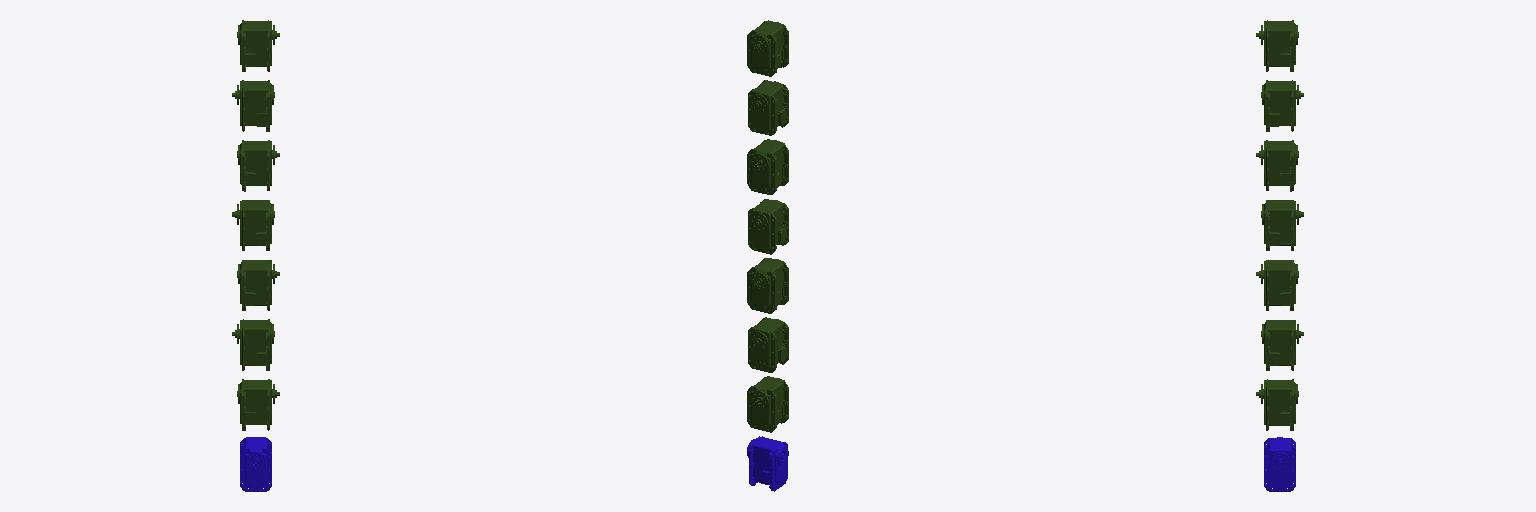
The robot description file, URDF, robot "sevenJointsSnake":
<robot name="sevenJointsSnake">

  <!-- ros_control plugin -->
  <gazebo>
    <plugin name="gazebo_ros_control" filename="libgazebo_ros_control.so">
      <robotNamespace>/snake</robotNamespace>
      <robotSimType>gazebo_ros_control/DefaultRobotHWSim</robotSimType>
    </plugin>
  </gazebo>

  <material name="Blue">
    <color rgba="0.2 0.1 0.8 1.0"/>
  </material>
  <material name="Green">
    <color rgba="0.22 0.32 0.14 1.0"/>
  </material>

	<!-- attach the base_link to world -->
  <link name="world"/>

  <joint name="fixed" type="fixed">
    <parent link="world"/>
    <child link="base_link"/>
  </joint>

	<link name="base_link">
		<visual>
			<origin
				xyz="0. 0. 0."
				rpy="1.57079632679 0 1.57079632679"
			/>
			<geometry>
				<mesh
					filename="package://snake_robot/snake_description/meshes/servo.stl" scale="0.001 0.001 0.001"/>
			</geometry>
			<material name="Blue"/>
		</visual>
		
		<!-- in gazebo, there has to be a mass and an inertia for each link -->
		<inertial>
      <origin xyz="0 0 0.036" rpy="0 0 0"/>
      <mass value="1"/>
      <inertia
	  ixx="0.1" ixy="0.0" ixz="0.0"
	  iyy="0.1" iyz="0.0"
	  izz="0.1"/>
    </inertial>
	</link>

	<joint name="joint1" type="continuous">
		<origin
			xyz="0. 0. 0."
			rpy="0. 0. 0."
		/>
		<parent link="base_link"/>
		<child link="link2"/>
		<safety_controller k_position="100.0" k_velocity="40.0" soft_lower_limit="-1.5" soft_upper_limit="1.5"/>
		<limit effort="0.01" lower="-1" upper="1" velocity="0.5"/>
		<dynamics damping="0.7"/>
	</joint>

	<link name="link2">
		<visual>
			<origin
				xyz="0. 0. 0.072"
				rpy="1.57079632679 0 0."
			/>
			<geometry>
				<mesh
					filename="package://snake_robot/snake_description/meshes/servo.stl" scale="0.001 0.001 0.001"/>
			</geometry>
			<material name="Green"/>
		</visual>

		<inertial>
	    <origin xyz="0 0 0.036" rpy="0 0 0"/>
	    <mass value="1"/>
	    <inertia
		  ixx="0.1" ixy="0.0" ixz="0.0"
		  iyy="0.1" iyz="0.0"
		  izz="0.1"/>
	    </inertial>
	</link>

	<joint name="joint2" type="continuous">
		<origin
			xyz="0. 0. 0.072"
			rpy="0. 0. 1.57079632679"
		/>
		<parent link="link2"/>
		<child link="link3"/>
		<safety_controller k_position="100.0" k_velocity="40.0" soft_lower_limit="-1.5" soft_upper_limit="1.5"/>
		<limit effort="0.01" lower="-1" upper="1" velocity="0.5"/>
		<dynamics damping="0.7"/>
	</joint>

	<link name="link3">
		<visual>
			<origin
				xyz="0. 0. 0.072"
				rpy="1.57079632679 0 1.57079632679"
			/>
			<geometry>
				<mesh
					filename="package://snake_robot/snake_description/meshes/servo.stl" scale="0.001 0.001 0.001"/>
			</geometry>
			<material name="Green"/>
		</visual>

		<inertial>
	    <origin xyz="0 0 0.036" rpy="0 0 0"/>
	    <mass value="1"/>
	    <inertia
		  ixx="0.1" ixy="0.0" ixz="0.0"
		  iyy="0.1" iyz="0.0"
		  izz="0.1"/>
	  </inertial>
	</link>

	<joint name="joint3" type="continuous">
		<origin
			xyz="0. 0. 0.072"
			rpy="0. 0. -1.57079632679"
		/>
		<parent link="link3"/>
		<child link="link4"/>
		<safety_controller k_position="100.0" k_velocity="40.0" soft_lower_limit="-1.5" soft_upper_limit="1.5"/>
		<limit effort="0.01" lower="-1" upper="1" velocity="0.5"/>
		<dynamics damping="0.7"/>
	</joint>

	<link name="link4">
		<visual>
			<origin
				xyz="0. 0. 0.072"
				rpy="1.57079632679 0 0."
			/>
			<geometry>
				<mesh
					filename="package://snake_robot/snake_description/meshes/servo.stl" scale="0.001 0.001 0.001"/>
			</geometry>
			<material name="Green"/>
		</visual>

		<inertial>
	    <origin xyz="0 0 0.036" rpy="0 0 0"/>
	    <mass value="1"/>
	    <inertia
		  ixx="0.1" ixy="0.0" ixz="0.0"
		  iyy="0.1" iyz="0.0"
		  izz="0.1"/>
    </inertial>
	</link>

	<joint name="joint4" type="continuous">
		<origin
			xyz="0. 0. 0.072"
			rpy="0. 0. 1.57079632679"
		/>
		<parent link="link4"/>
		<child link="link5"/>
		<safety_controller k_position="100.0" k_velocity="40.0" soft_lower_limit="-1.5" soft_upper_limit="1.5"/>
		<limit effort="0.01" lower="-1" upper="1" velocity="0.5"/>
		<dynamics damping="0.7"/>
	</joint>

	<link name="link5">
		<visual>
			<origin
				xyz="0. 0. 0.072"
				rpy="1.57079632679 0 1.57079632679"
			/>
			<geometry>
				<mesh
					filename="package://snake_robot/snake_description/meshes/servo.stl" scale="0.001 0.001 0.001"/>
			</geometry>
			<material name="Green"/>
		</visual>

		<inertial>
	    <origin xyz="0 0 0.036" rpy="0 0 0"/>
	    <mass value="1"/>
	    <inertia
		  ixx="0.1" ixy="0.0" ixz="0.0"
		  iyy="0.1" iyz="0.0"
		  izz="0.1"/>
	  </inertial>
	</link>

	<joint name="joint5" type="continuous">
		<origin
			xyz="0. 0. 0.072"
			rpy="0. 0. -1.57079632679"
		/>
		<parent link="link5"/>
		<child link="link6"/>
		<safety_controller k_position="100.0" k_velocity="40.0" soft_lower_limit="-1.5" soft_upper_limit="1.5"/>
		<limit effort="0.01" lower="-1" upper="1" velocity="0.5"/>
		<dynamics damping="0.7"/>
	</joint>

	<link name="link6">
		<visual>
			<origin
				xyz="0. 0. 0.072"
				rpy="1.57079632679 0 0."
			/>
			<geometry>
				<mesh
					filename="package://snake_robot/snake_description/meshes/servo.stl" scale="0.001 0.001 0.001"/>
			</geometry>
			<material name="Green"/>
		</visual>

		<inertial>
	    <origin xyz="0 0 0.036" rpy="0 0 0"/>
	    <mass value="1"/>
	    <inertia
		  ixx="0.1" ixy="0.0" ixz="0.0"
		  iyy="0.1" iyz="0.0"
		  izz="0.1"/>
    </inertial>
	</link>

	<joint name="joint6" type="continuous">
		<origin
			xyz="0. 0. 0.072"
			rpy="0. 0. 1.57079632679"
		/>
		<parent link="link6"/>
		<child link="link7"/>
		<safety_controller k_position="100.0" k_velocity="40.0" soft_lower_limit="-1.5" soft_upper_limit="1.5"/>
		<limit effort="0.01" lower="-1" upper="1" velocity="0.5"/>
		<dynamics damping="0.7"/>
	</joint>

	<link name="link7">
		<visual>
			<origin
				xyz="0. 0. 0.072"
				rpy="1.57079632679 0 1.57079632679"
			/>
			<geometry>
				<mesh
					filename="package://snake_robot/snake_description/meshes/servo.stl" scale="0.001 0.001 0.001"/>
			</geometry>
			<material name="Green"/>
		</visual>

		<inertial>
	    <origin xyz="0 0 0.036" rpy="0 0 0"/>
	    <mass value="1"/>
	    <inertia
		  ixx="0.1" ixy="0.0" ixz="0.0"
		  iyy="0.1" iyz="0.0"
		  izz="0.1"/>
	  </inertial>
	</link>

	<joint name="joint7" type="continuous">
		<origin
			xyz="0. 0. 0.072"
			rpy="0. 0. -1.57079632679"
		/>
		<parent link="link7"/>
		<child link="link8"/>
		<safety_controller k_position="100.0" k_velocity="40.0" soft_lower_limit="-1.5" soft_upper_limit="1.5"/>
		<limit effort="0.01" lower="-1" upper="1" velocity="0.5"/>
		<dynamics damping="0.7"/>
	</joint>

	<link name="link8">
		<visual>
			<origin
				xyz="0. 0. 0.072"
				rpy="1.57079632679 0 0."
			/>
			<geometry>
				<mesh
					filename="package://snake_robot/snake_description/meshes/servo.stl" scale="0.001 0.001 0.001"/>
			</geometry>
			<material name="Green"/>
		</visual>

		<inertial>
	    <origin xyz="0 0 0.036" rpy="0 0 0"/>
	    <mass value="1"/>
	    <inertia
		  ixx="0.1" ixy="0.0" ixz="0.0"
		  iyy="0.1" iyz="0.0"
		  izz="0.1"/>
    </inertial>
	</link>



	<transmission name="trans1">
	  <type>transmission_interface/SimpleTransmission</type>
	  <joint name="joint1">
	    <hardwareInterface>hardware_interface/PositionJointInterface</hardwareInterface>
	  </joint>
	  <actuator name="servo1">
	    <mechanicalReduction>1</mechanicalReduction>
	    <hardwareInterface>hardware_interface/PositionJointInterface</hardwareInterface>
	  </actuator>
	</transmission>

	<transmission name="trans2">
	  <type>transmission_interface/SimpleTransmission</type>
	  <joint name="joint2">
	    <hardwareInterface>hardware_interface/PositionJointInterface</hardwareInterface>
	  </joint>
	  <actuator name="servo2">
	    <mechanicalReduction>1</mechanicalReduction>
	    <hardwareInterface>hardware_interface/PositionJointInterface</hardwareInterface>
	  </actuator>
	</transmission>

	<transmission name="trans3">
	  <type>transmission_interface/SimpleTransmission</type>
	  <joint name="joint3">
	    <hardwareInterface>hardware_interface/PositionJointInterface</hardwareInterface>
	  </joint>
	  <actuator name="servo3">
	    <mechanicalReduction>1</mechanicalReduction>
	    <hardwareInterface>hardware_interface/PositionJointInterface</hardwareInterface>
	  </actuator>
	</transmission>

	<transmission name="trans4">
	  <type>transmission_interface/SimpleTransmission</type>
	  <joint name="joint4">
	    <hardwareInterface>hardware_interface/PositionJointInterface</hardwareInterface>
	  </joint>
	  <actuator name="servo4">
	    <mechanicalReduction>1</mechanicalReduction>
	    <hardwareInterface>hardware_interface/PositionJointInterface</hardwareInterface>
	  </actuator>
	</transmission>

	<transmission name="trans5">
	  <type>transmission_interface/SimpleTransmission</type>
	  <joint name="joint5">
	    <hardwareInterface>hardware_interface/PositionJointInterface</hardwareInterface>
	  </joint>
	  <actuator name="servo5">
	    <mechanicalReduction>1</mechanicalReduction>
	    <hardwareInterface>hardware_interface/PositionJointInterface</hardwareInterface>
	  </actuator>
	</transmission>

	<transmission name="trans6">
	  <type>transmission_interface/SimpleTransmission</type>
	  <joint name="joint6">
	    <hardwareInterface>hardware_interface/PositionJointInterface</hardwareInterface>
	  </joint>
	  <actuator name="servo6">
	    <mechanicalReduction>1</mechanicalReduction>
	    <hardwareInterface>hardware_interface/PositionJointInterface</hardwareInterface>
	  </actuator>
	</transmission>

	<transmission name="trans7">
	  <type>transmission_interface/SimpleTransmission</type>
	  <joint name="joint7">
	    <hardwareInterface>hardware_interface/PositionJointInterface</hardwareInterface>
	  </joint>
	  <actuator name="servo7">
	    <mechanicalReduction>1</mechanicalReduction>
	    <hardwareInterface>hardware_interface/PositionJointInterface</hardwareInterface>
	  </actuator>
	</transmission>
</robot>

--- Facts derived from the render (not from the file) ---
Views: 3 orthographic renders of the robot side by side, from view 1: azimuth 90°, elevation 25°; view 2: azimuth 150°, elevation 25°; view 3: azimuth 270°, elevation 25°.
Model sevenJointsSnake with 9 links and 8 joints (7 continuous, 1 fixed), rooted at world, posed all joints at 0.
Visible links, largest first — view 1: base_link, link5, link3, link8, link4, link7, link2, link6; view 2: link4, link8, link2, link6, link7, link3, link5, base_link; view 3: base_link, link5, link2, link8, link4, link3, link7, link6.
Link boxes in pixels (<box>): base_link: <box>240,437,271,491</box>; link5: <box>232,200,274,250</box>; link3: <box>232,319,274,370</box>; link8: <box>237,20,279,71</box>; link4: <box>237,260,279,310</box>; link7: <box>232,80,274,131</box>; link2: <box>237,379,279,430</box>; link6: <box>237,140,279,191</box>; link4: <box>747,258,788,313</box>; link8: <box>747,20,788,76</box>; link2: <box>747,376,788,432</box>; link6: <box>747,139,788,194</box>; link7: <box>748,80,788,135</box>; link3: <box>748,317,788,372</box>; link5: <box>748,199,788,254</box>; base_link: <box>747,436,788,491</box>; base_link: <box>1264,437,1295,491</box>; link5: <box>1261,200,1303,250</box>; link2: <box>1256,379,1298,430</box>; link8: <box>1256,20,1298,71</box>; link4: <box>1256,260,1298,310</box>; link3: <box>1261,320,1303,370</box>; link7: <box>1261,80,1303,131</box>; link6: <box>1256,140,1298,191</box>.
Bounding box of the posed robot: 0.0464 × 0.0517 × 0.5546 m (x, y, z).
8 mesh visuals loaded from 1 distinct referenced files (1 binary STL).